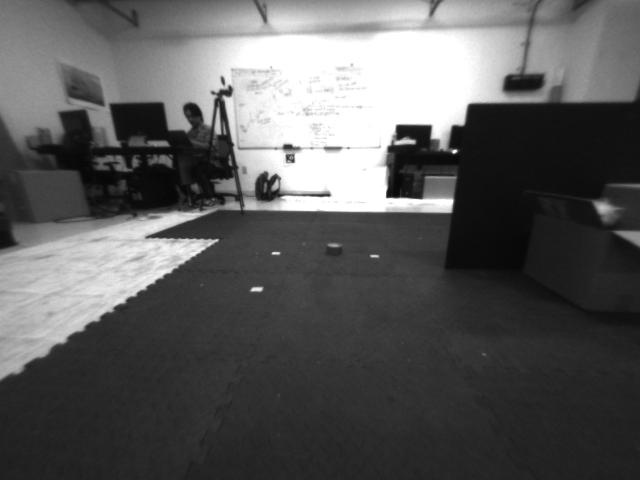dogtoy: (318, 241, 347, 262)
